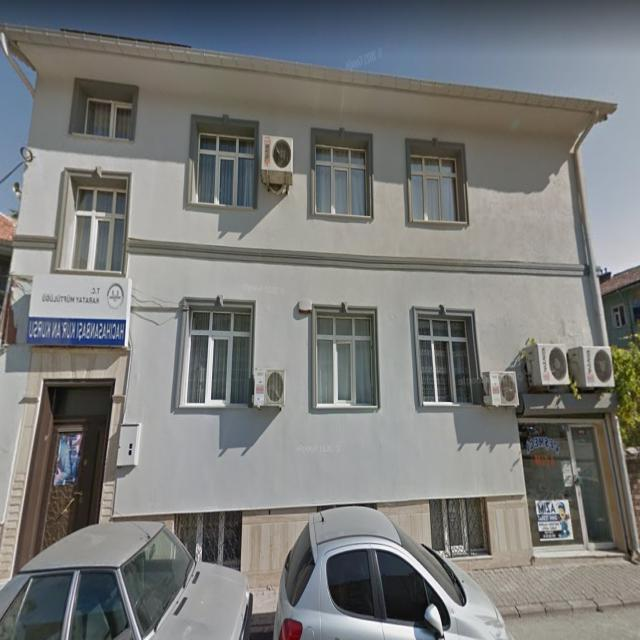Building: (0, 25, 638, 588)
